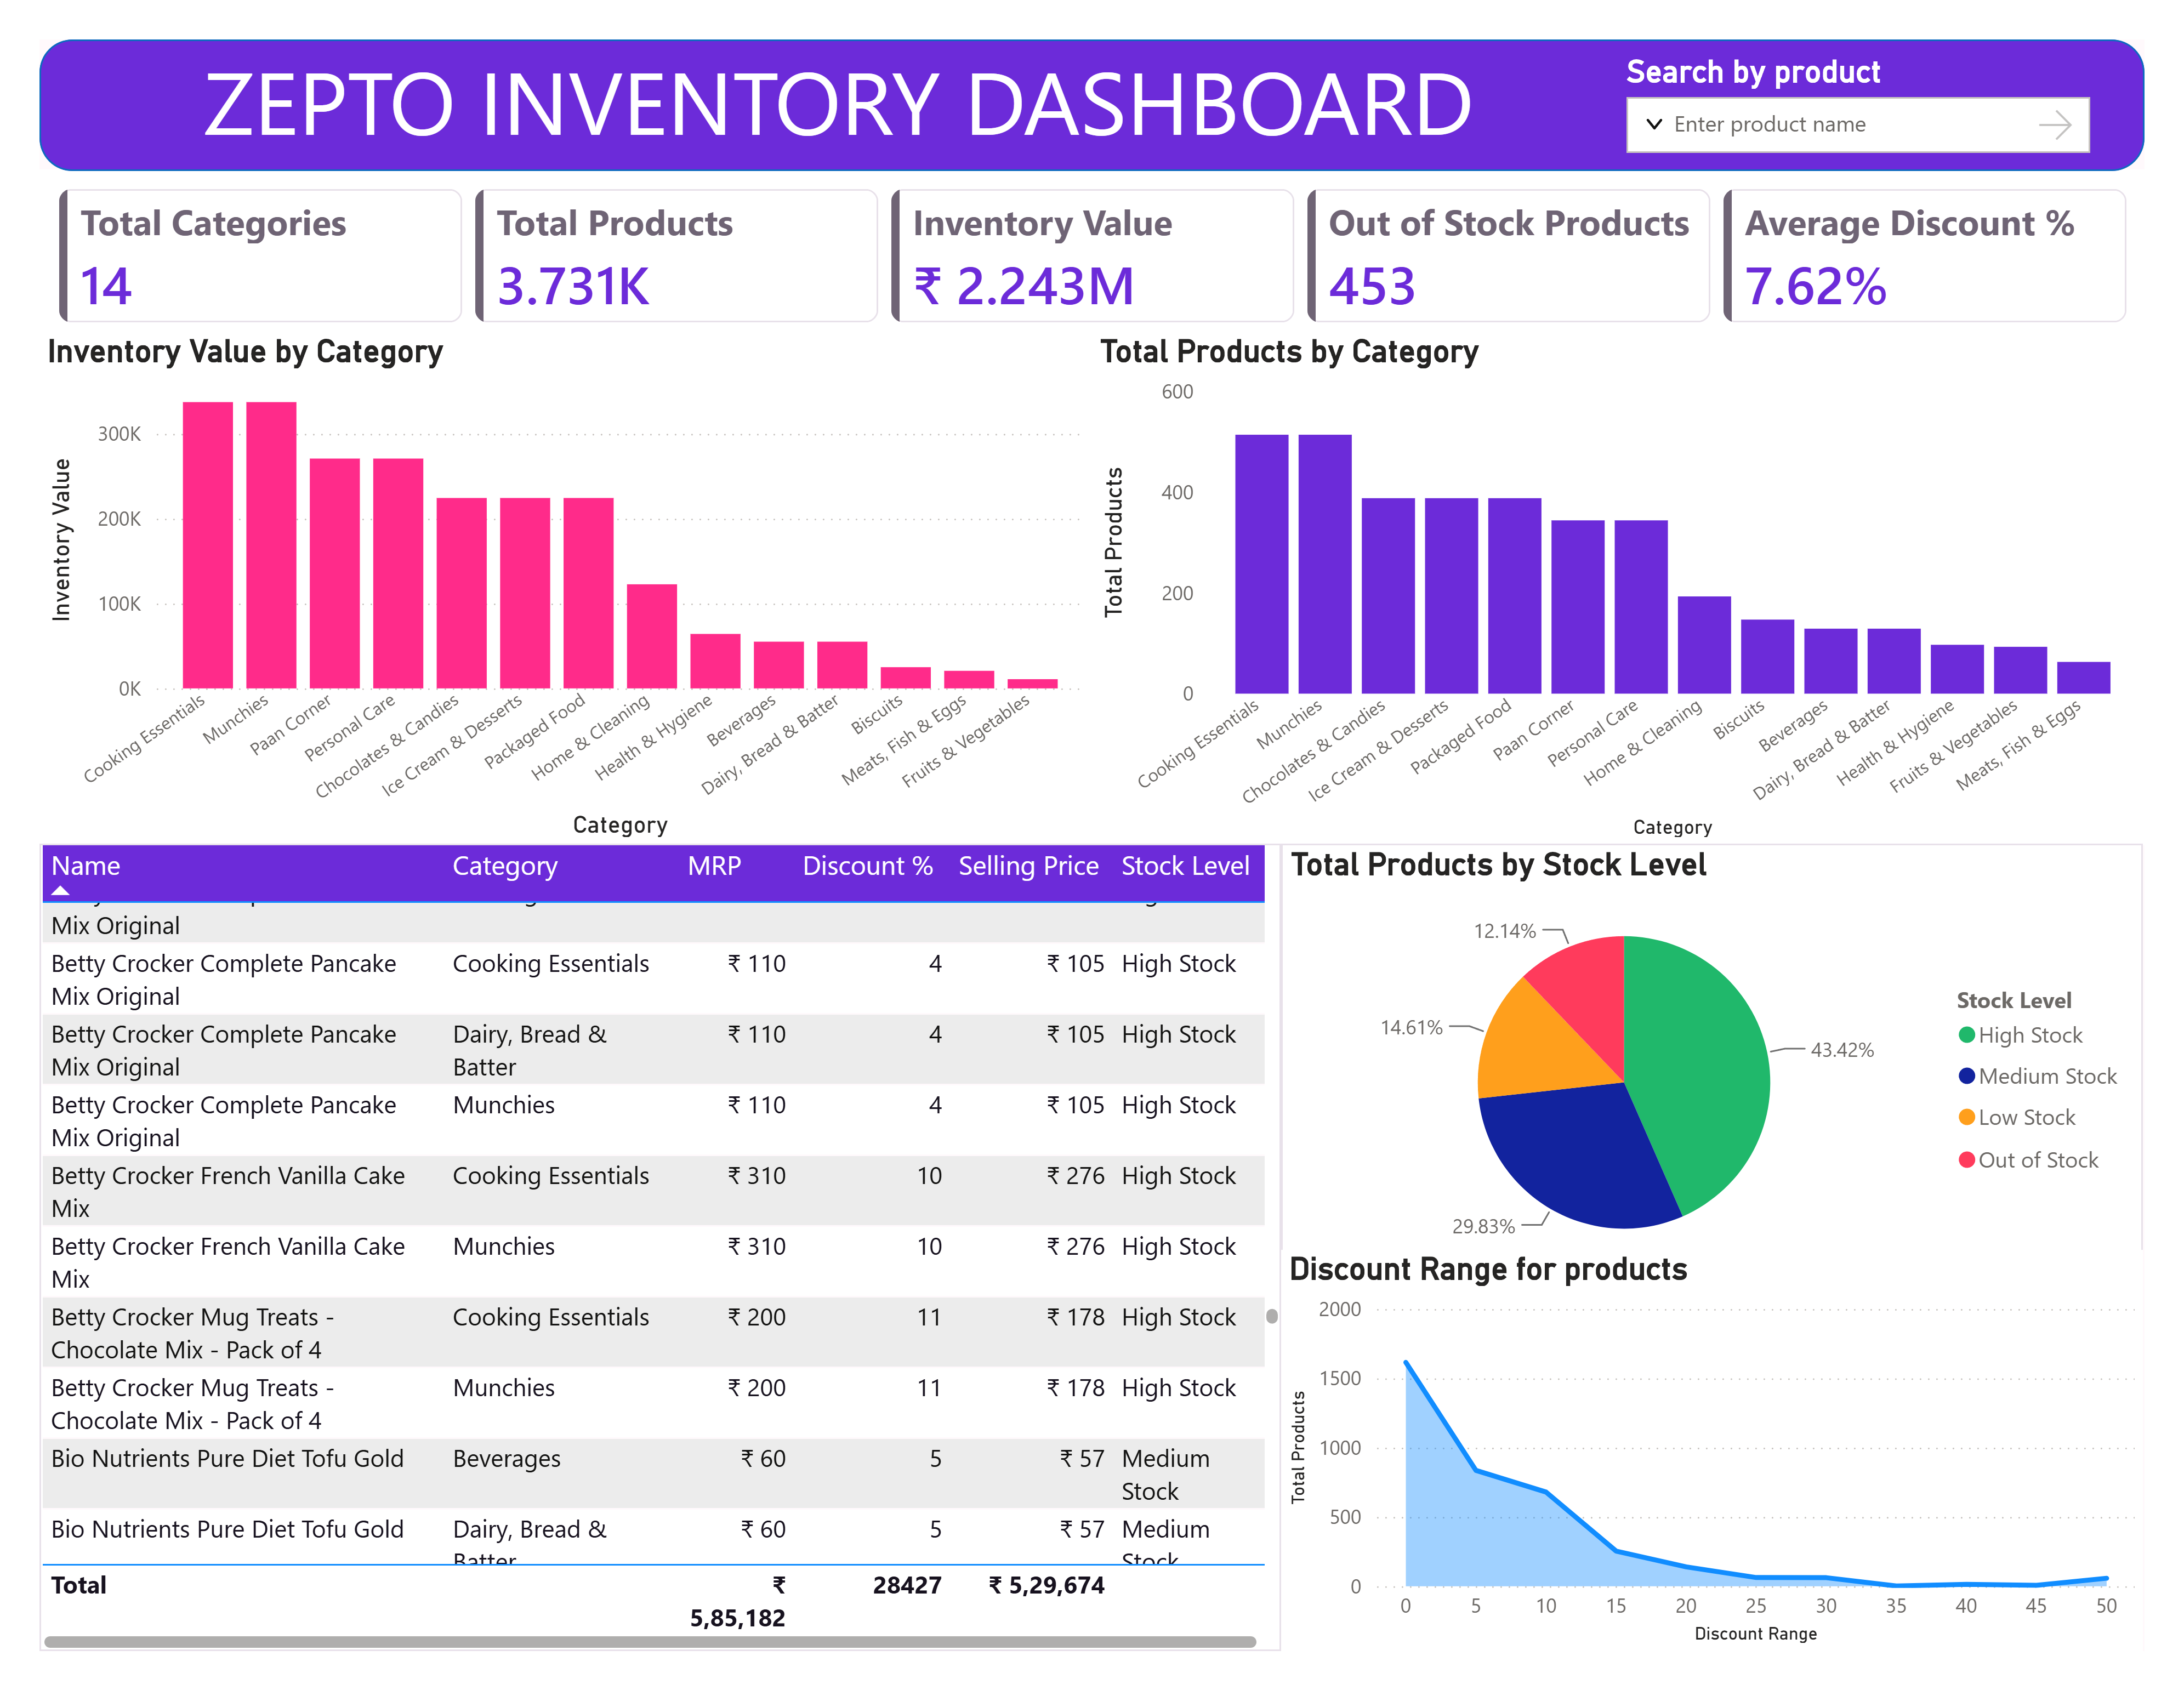

This screenshot's page, from the dashboard's own definition file:
{"tool":"powerbi","page":{"name":"Page 1","canvas":[1280,980],"ordinal":0},"visuals":[{"type":"cardVisual","fields":{"Data":["Table.Total Categories","Table.Total Products","Table.Inventory Value","Table.Out of Stock Products","Table.Average Discount %"]},"box":[0,78.8,1280.8,105.1],"z":0},{"type":"shape","box":[0,0,1280,80],"z":1000},{"type":"textbox","box":[100,0,785,80],"z":2000},{"type":"columnChart","fields":{"Category":["cleaned_zepto_v2.Category"],"Y":["Table.Total Products"]},"box":[640,177.8,640,312.2],"z":3000},{"type":"columnChart","fields":{"Category":["cleaned_zepto_v2.Category"],"Y":["Table.Inventory Value"]},"box":[0,177.8,640,312.2],"z":4000},{"type":"pieChart","fields":{"Y":["Table.Total Products"],"Category":["cleaned_zepto_v2.Stock Level"]},"box":[726.7,490,553.3,266.7],"z":5000},{"type":"areaChart","title":"Discount Range for products","fields":{"Category":["cleaned_zepto_v2.discountPercent (bins)"],"Y":["Table.Total Products"]},"box":[726.7,756.7,553.3,223.3],"z":6000},{"type":"tableEx","fields":{"Values":["cleaned_zepto_v2.name","cleaned_zepto_v2.Category","Sum(cleaned_zepto_v2.mrp)","Sum(cleaned_zepto_v2.discountPercent)","Sum(cleaned_zepto_v2.discountedSellingPrice)","cleaned_zepto_v2.Stock Level"]},"box":[0,490,726.7,490],"z":7000},{"type":"textSlicer","title":"Search by product","fields":{"Values":["cleaned_zepto_v2.name"]},"box":[960,8.3,291.7,65],"z":8000}]}

Visuals, with their boxes in screenshot pixels (x1, y1, x2, y2), scaled from the page's 1280x980 canvas onto the 2184x1690 screenshot:
cardVisual - Table.Total Categories x Table.Total Products: x1=0, y1=136, x2=2183, y2=317
shape: x1=0, y1=0, x2=2183, y2=138
textbox: x1=170, y1=0, x2=1510, y2=138
columnChart - cleaned_zepto_v2.Category x Table.Total Products: x1=1092, y1=306, x2=2183, y2=845
columnChart - cleaned_zepto_v2.Category x Table.Inventory Value: x1=0, y1=306, x2=1092, y2=845
pieChart - Table.Total Products x cleaned_zepto_v2.Stock Level: x1=1240, y1=845, x2=2183, y2=1305
"Discount Range for products" areaChart: x1=1240, y1=1305, x2=2183, y2=1689
tableEx - cleaned_zepto_v2.name x cleaned_zepto_v2.Category: x1=0, y1=845, x2=1240, y2=1689
"Search by product" textSlicer: x1=1638, y1=14, x2=2136, y2=127
